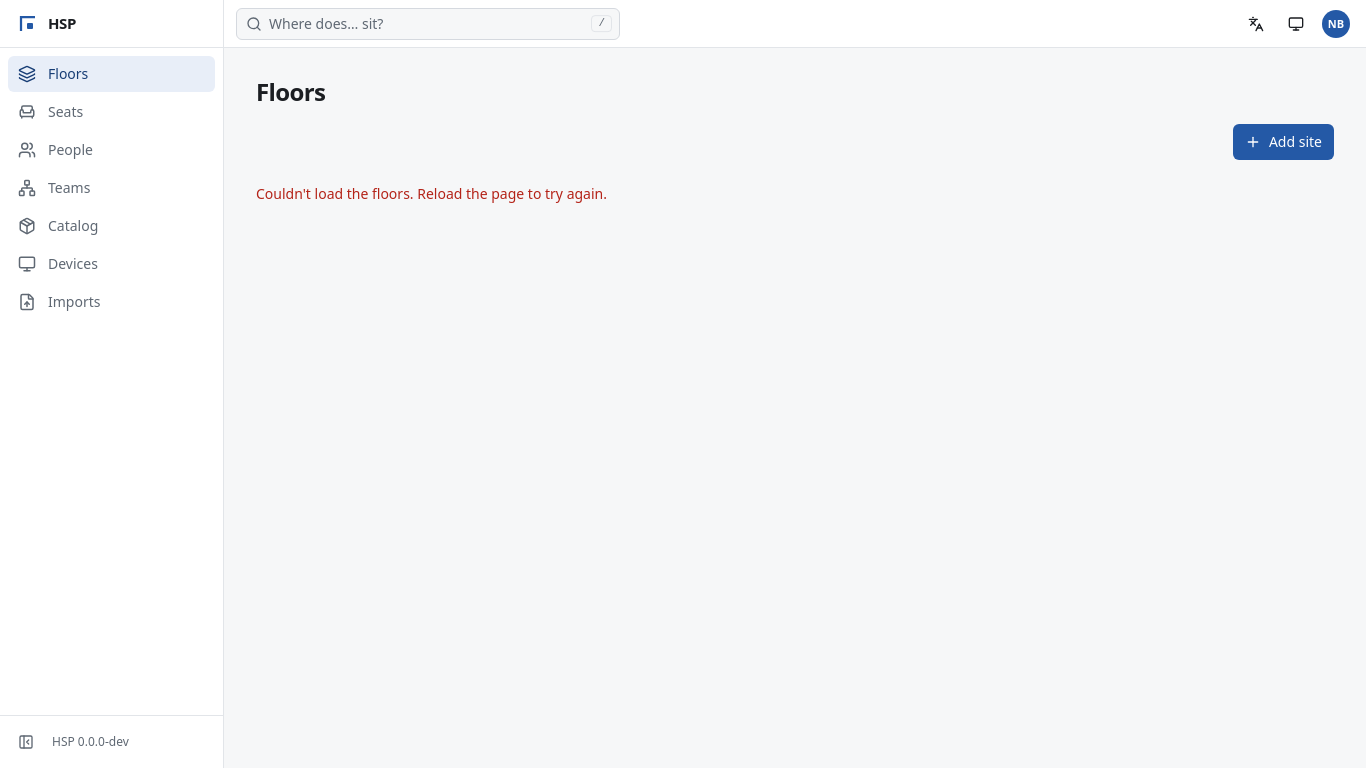
Test: session (docs/0038, docs/0087) › shows the release version at the bottom of the menu (docs/0104)
This screenshot has width=1366, height=768.
Click the button "NB": (1336, 24) [1318,6,1354,42]
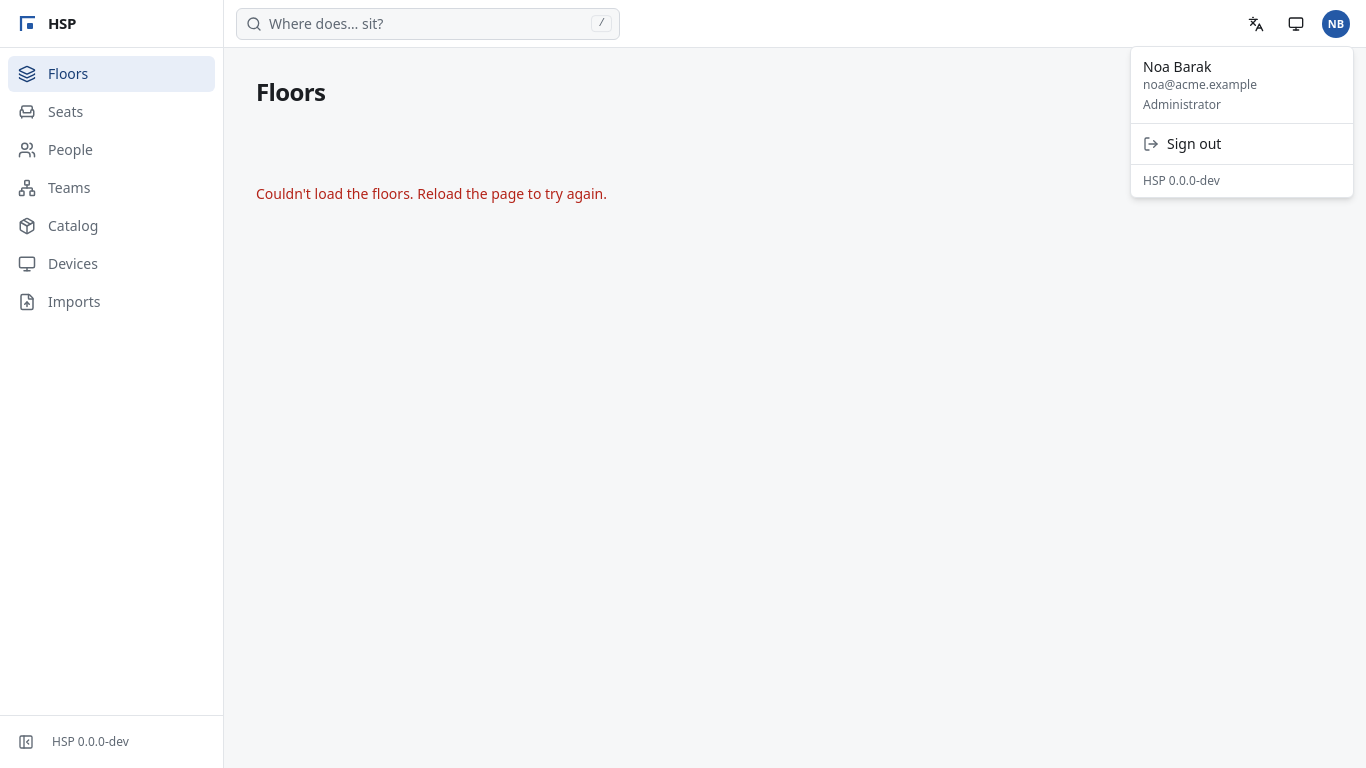
expect the text "HSP 0.0.0-dev" below "Sign out" is shown: met, box [1143,172,1220,189]
